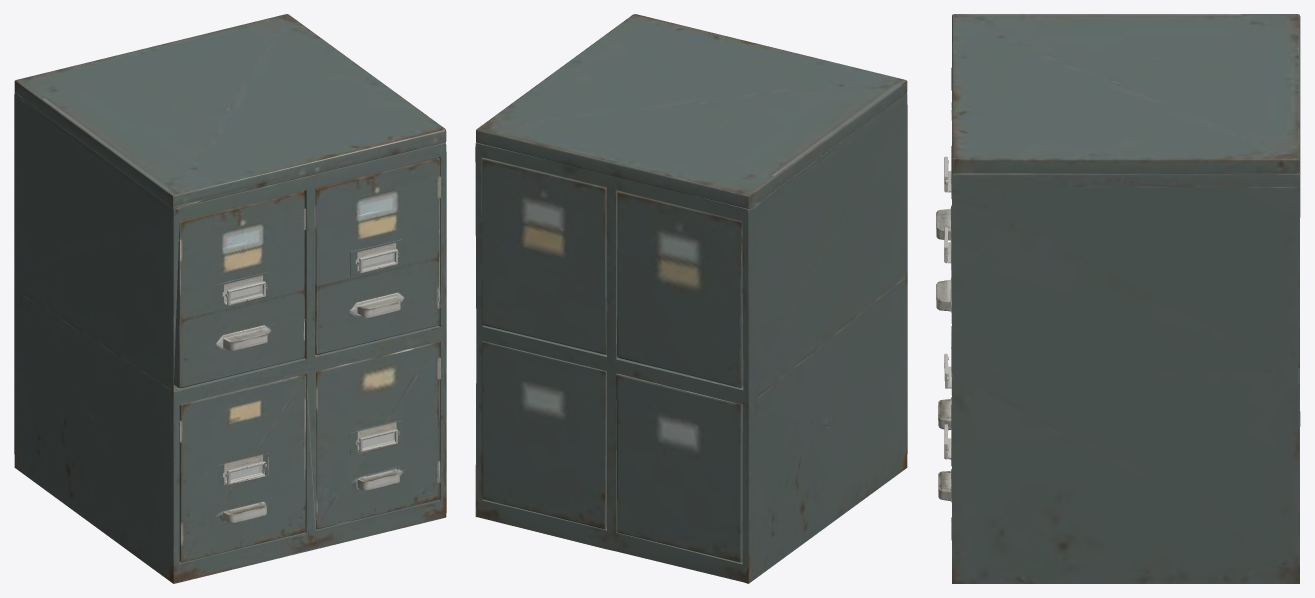
Rendered from filing_cabinet.glb.
The picture shows the model from 3 angles, left to right: view 1: azimuth 30°, elevation 25°; view 2: azimuth 150°, elevation 25°; view 3: azimuth 270°, elevation 25°; orthographic projection. The views are drawn at different scales.
Bounding box in the file's own units: 0.9748 × 1.32 × 1.03.
1 material, 1 textured.
